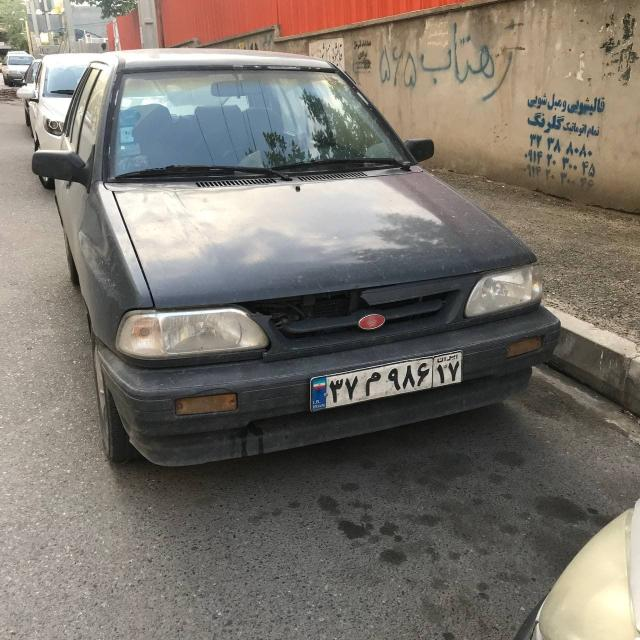Plates: (306, 350, 468, 411)
